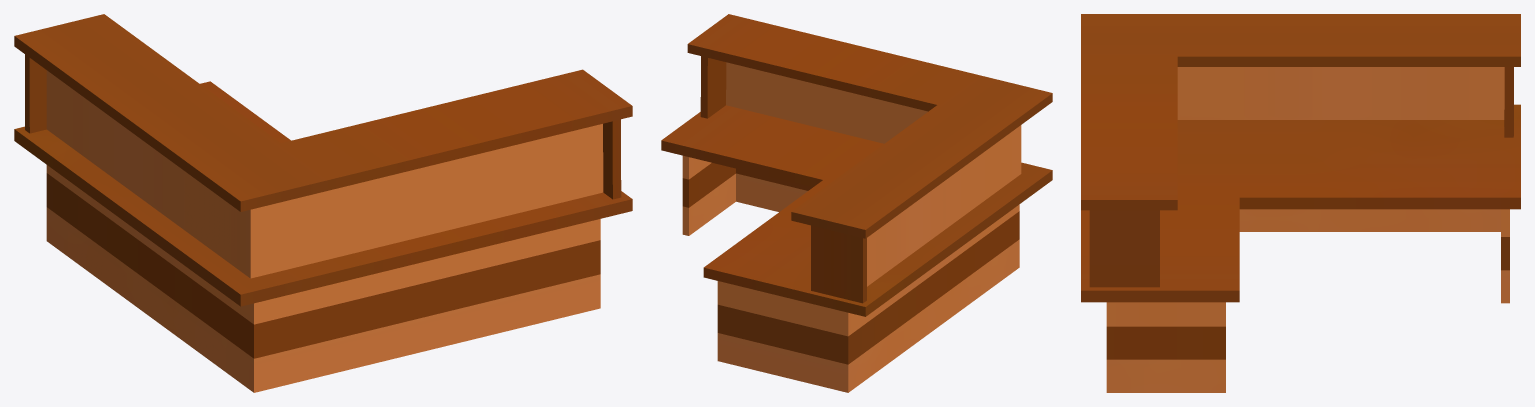
File: Escrivaninha  L01.FBX
3 renders of one model, left to right at view 1: azimuth 30°, elevation 25°; view 2: azimuth 150°, elevation 25°; view 3: azimuth 270°, elevation 25°, orthographic. The views are drawn at different scales.
Visible parts, largest first — view 1: Escrivaninha L Mesh; view 2: Escrivaninha L Mesh; view 3: Escrivaninha L Mesh.
Part boxes in pixels (left/top/right/bottom): Escrivaninha L Mesh: left=14, top=14, right=632, bottom=392; Escrivaninha L Mesh: left=661, top=14, right=1052, bottom=392; Escrivaninha L Mesh: left=1081, top=14, right=1520, bottom=392.
Bounding box in the file's own units: 78.74 × 39.87 × 78.74.
